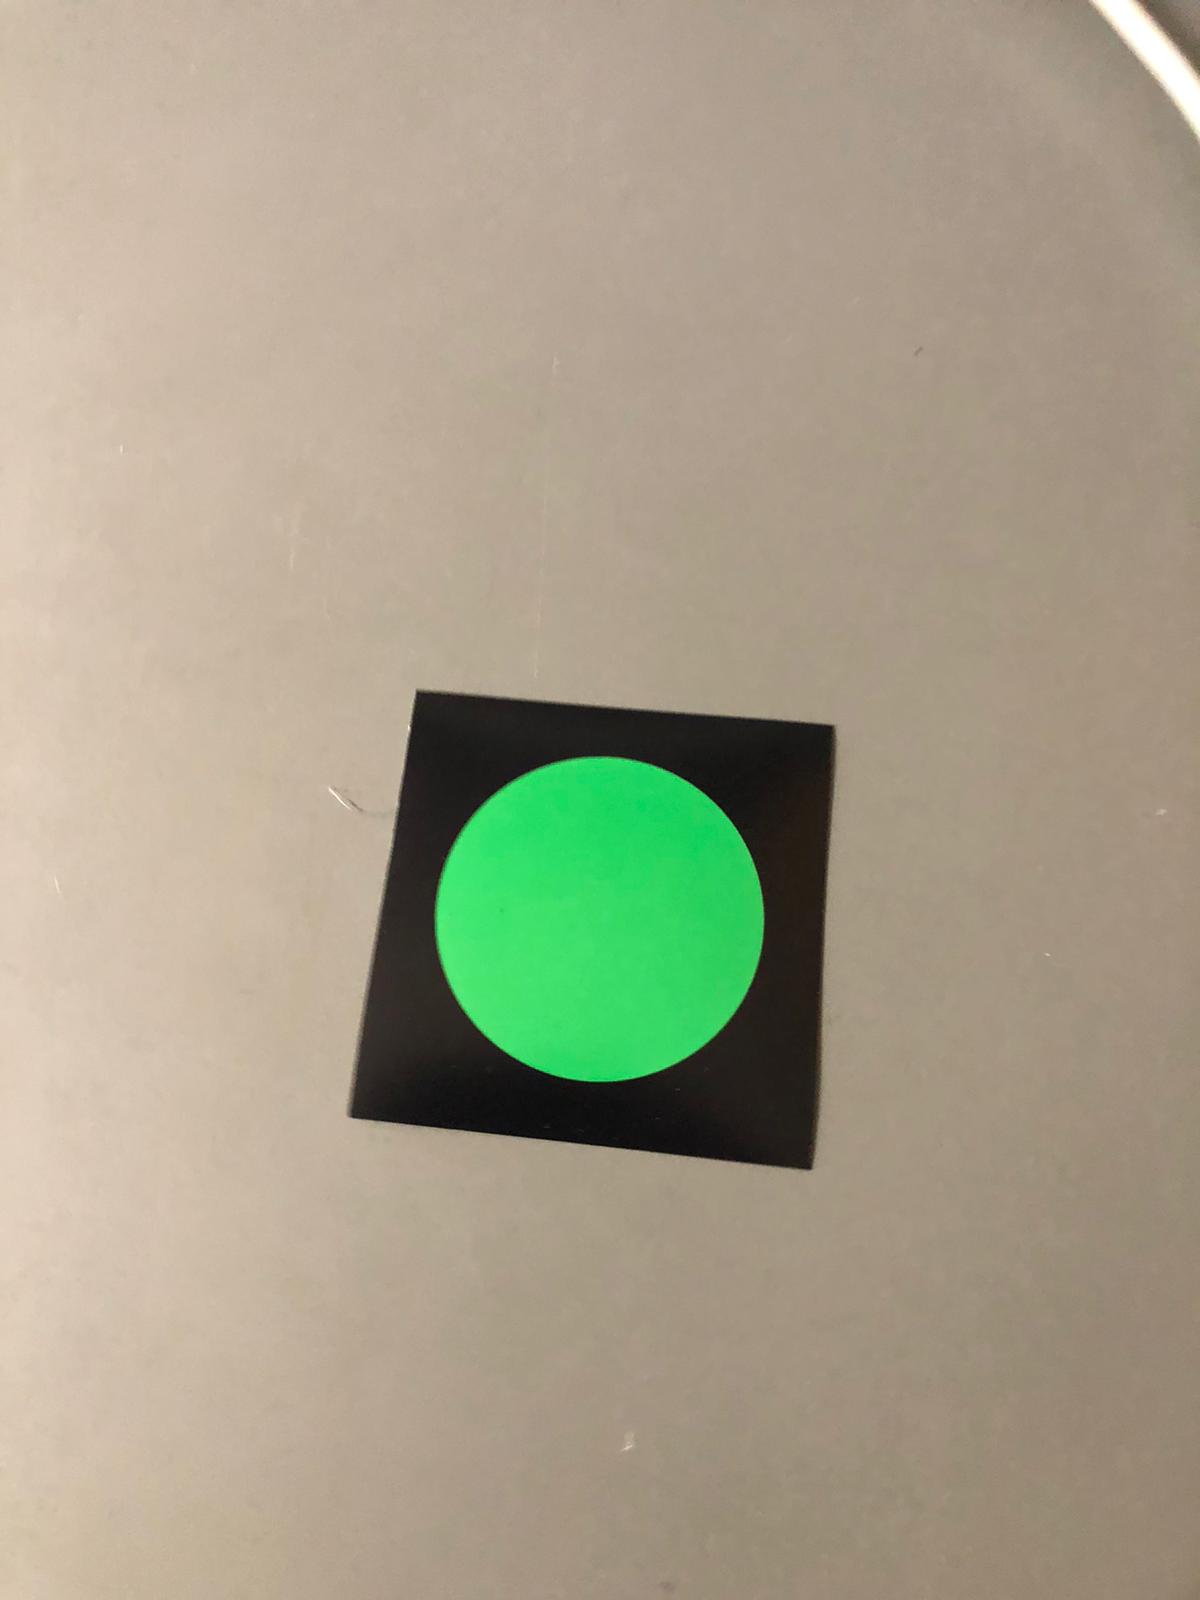Circle: (421, 716, 783, 1143)
